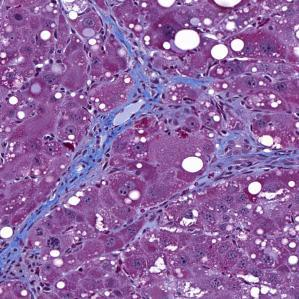fibrosis: (116, 59, 224, 133)
